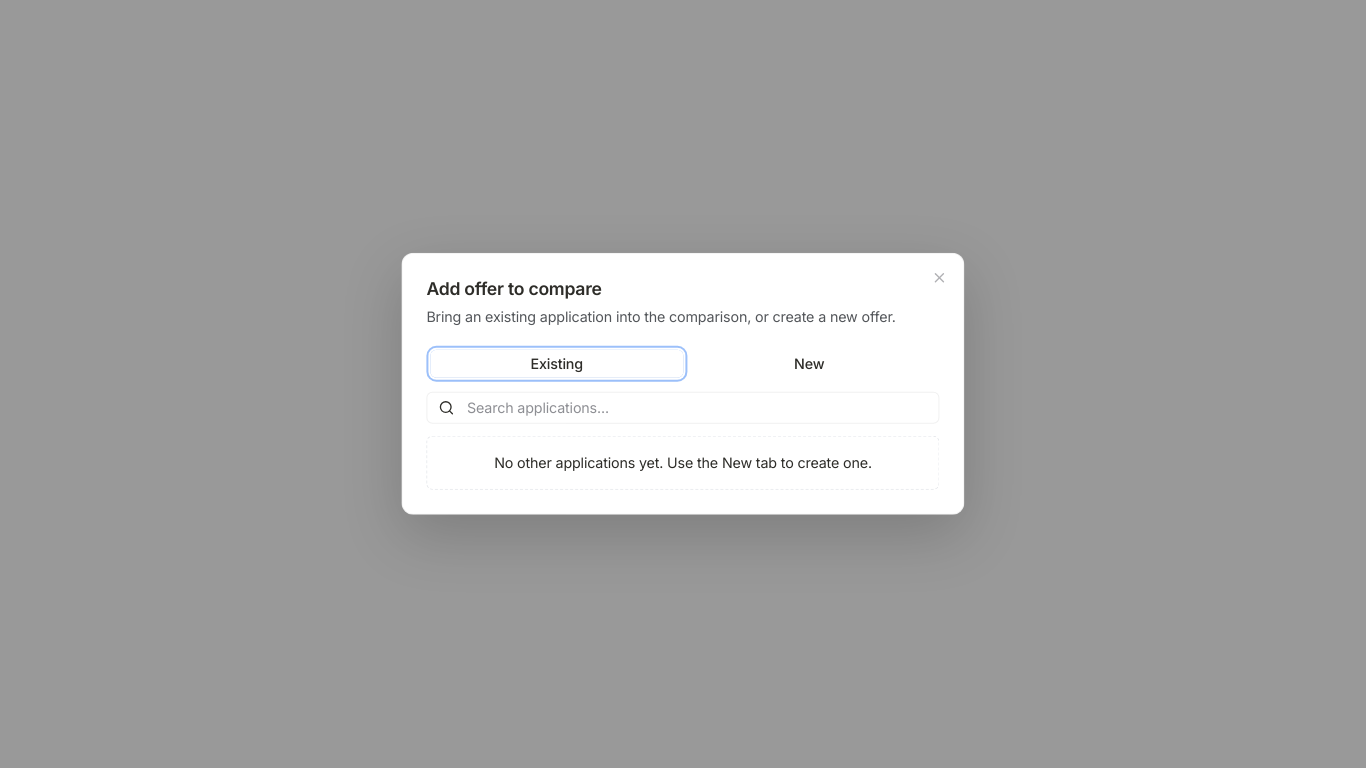
it: AddOfferDialog › rejects new-offer submission with missing company or role
Click the tab "New": (809, 364) x1=683 y1=349 x2=936 y2=378
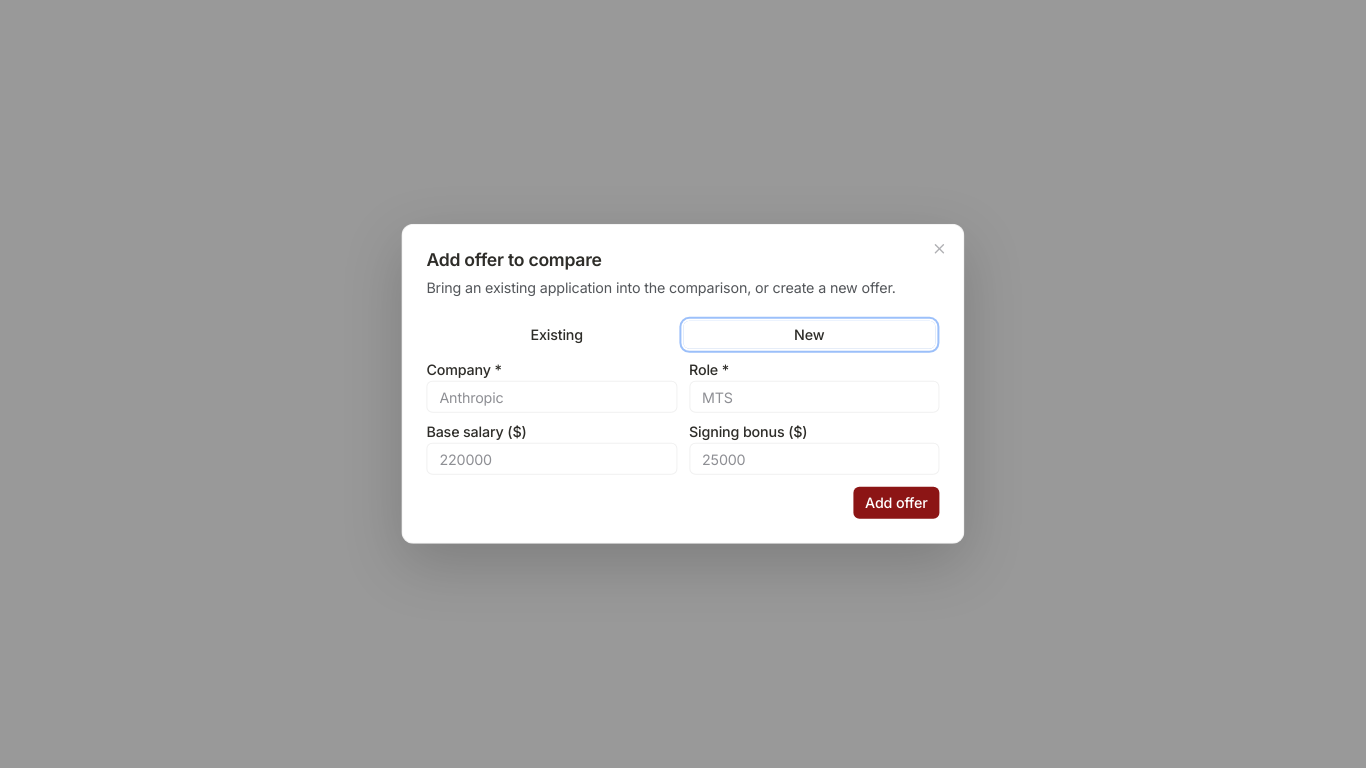
Click the button "Add offer": (896, 503) x1=853 y1=487 x2=940 y2=519
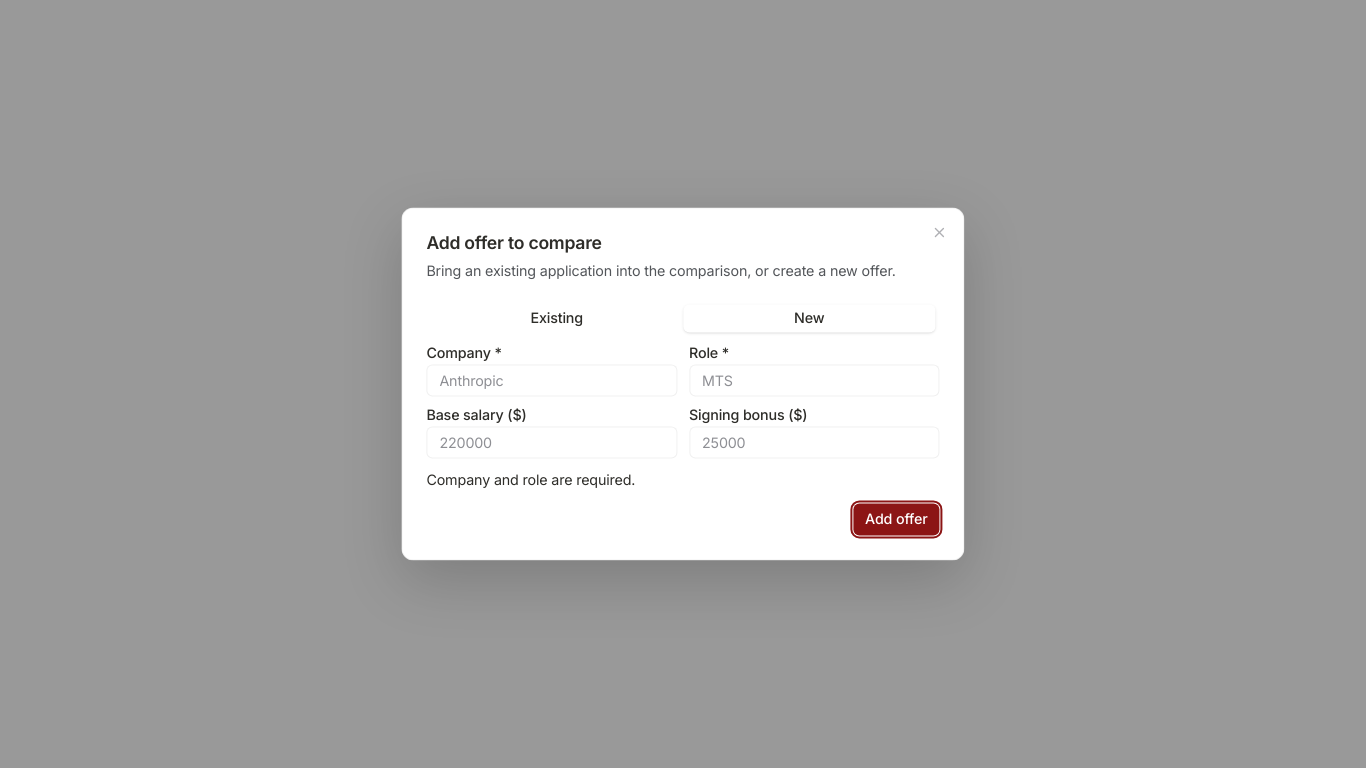
Expected: the message shows "required", x1=426 y1=472 x2=635 y2=489
